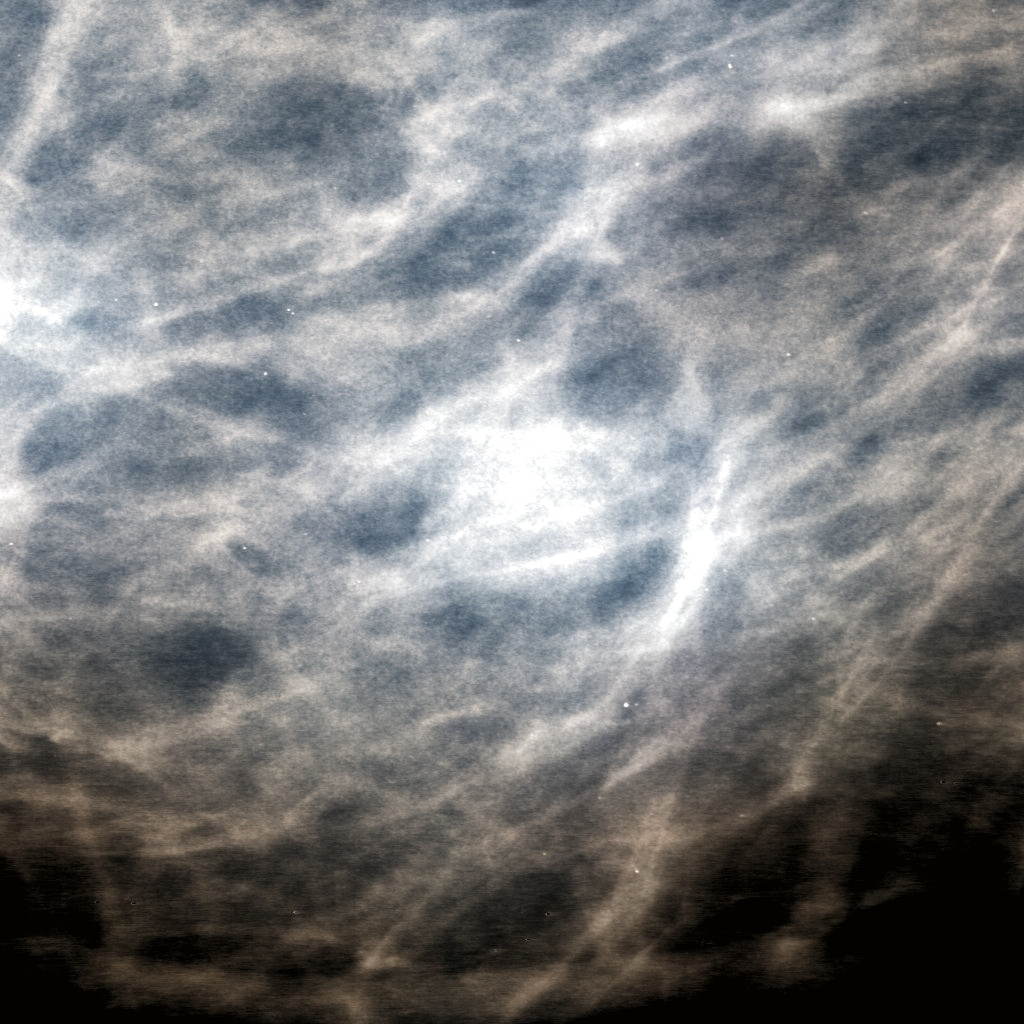tumor: (338, 364, 686, 660)
